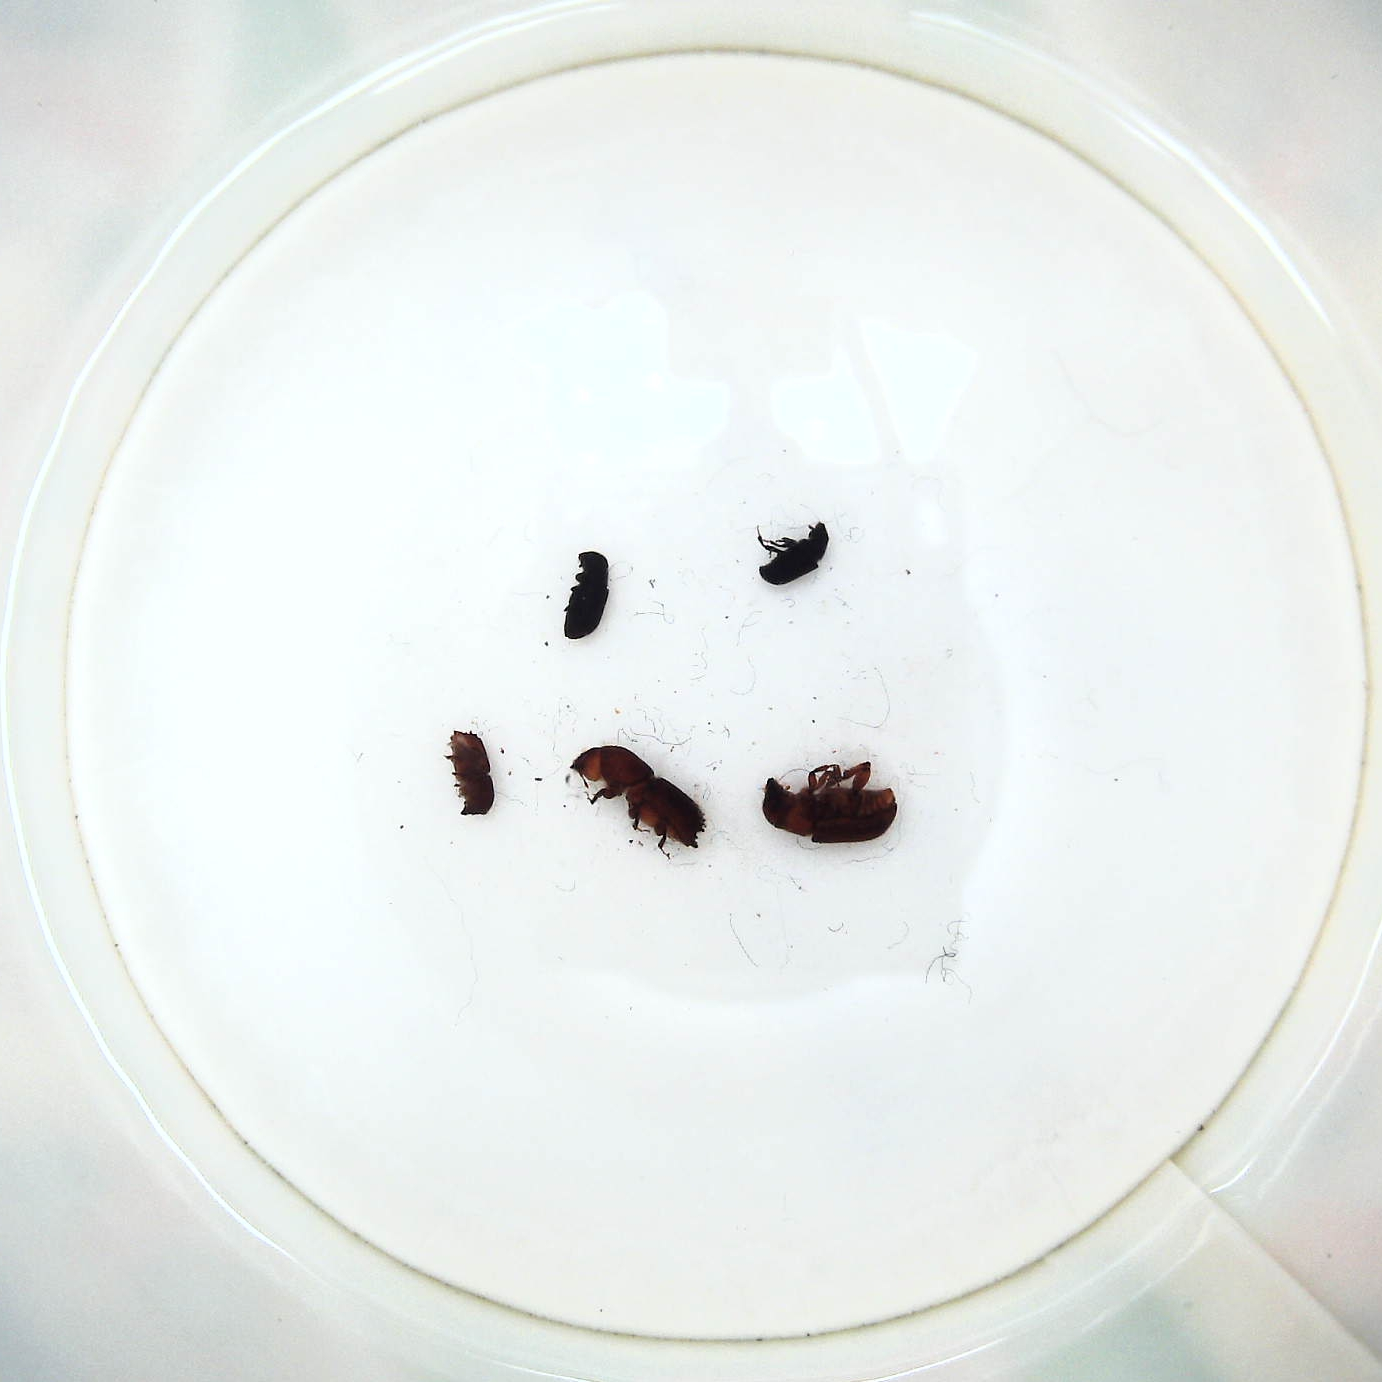Boerner: (562, 742, 706, 864)
Leconte: (757, 759, 904, 850)
armandi: (556, 547, 618, 647)
coleoptera: (752, 518, 838, 588)
linnaeus: (445, 723, 502, 818)
